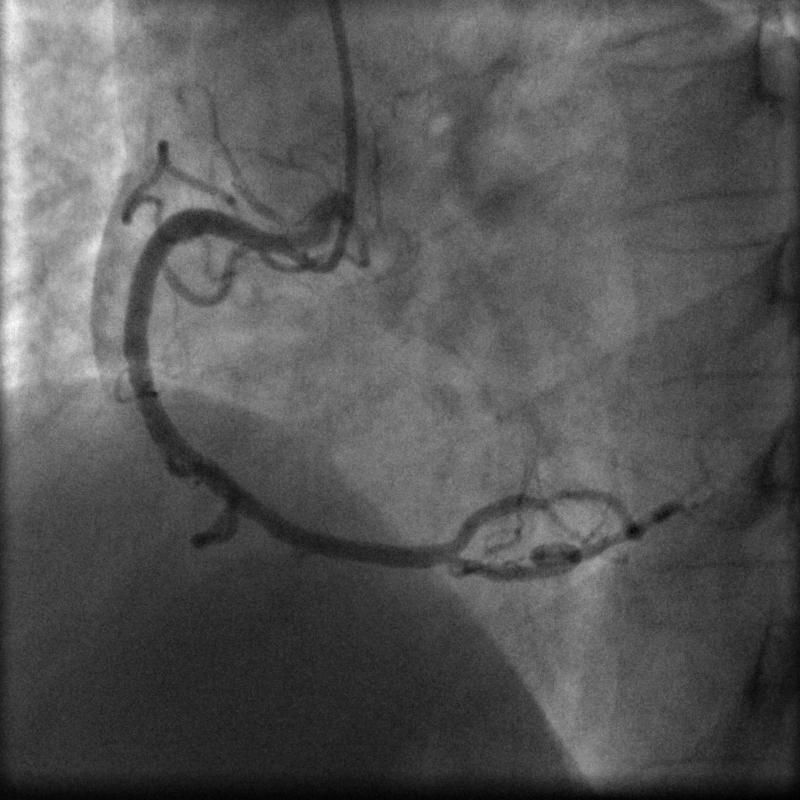Stenosis: (520, 486, 565, 507)
